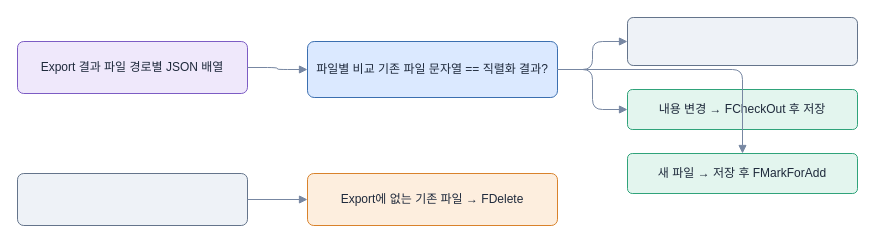
Image size: 875x243. Some labels were removed from this diagram. The centre of each missing label's shape, as x and y in pixels:
"기존 파일 목록 Level/ · Region/ 하위 *.json" goes at [132,199].
"동일 → 건너뜀 (체크아웃 · 저장 없음)" goes at [742,41].
